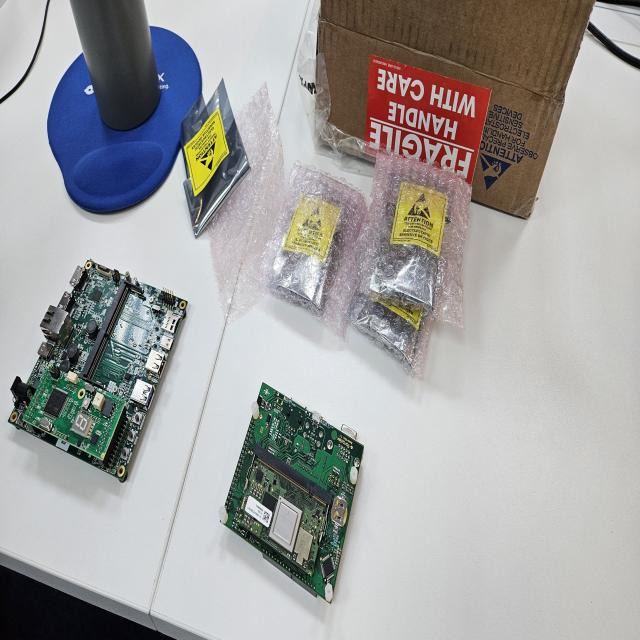som: (240, 443, 327, 582)
